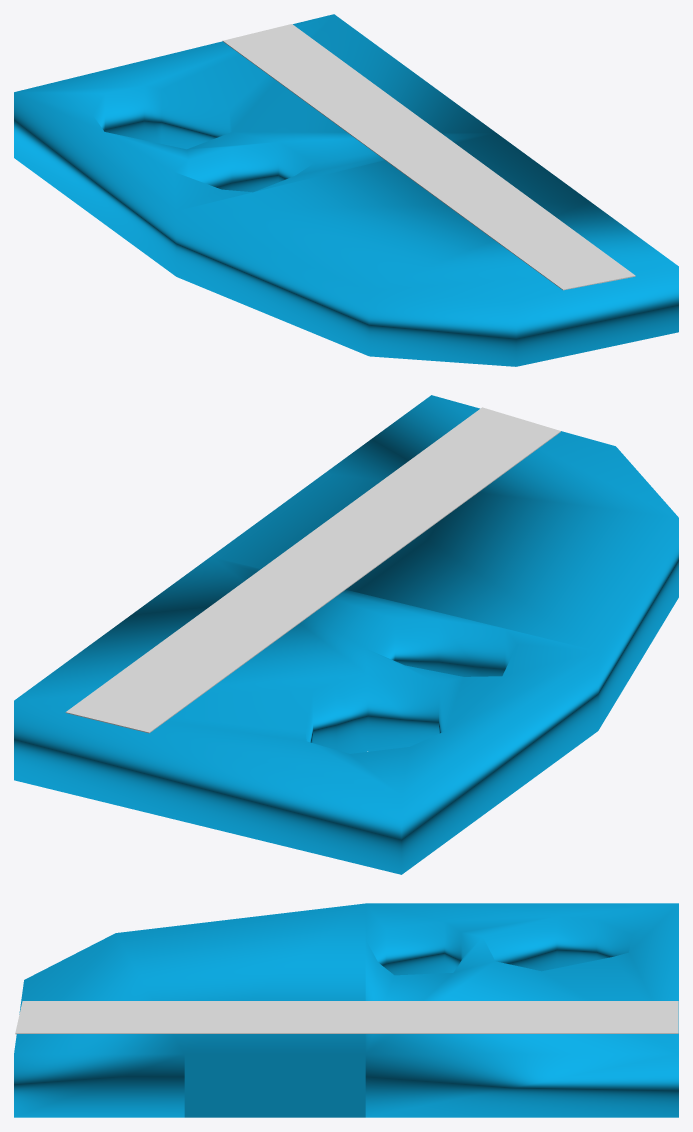
File: KEYCARD.fbx
The picture shows the model from 3 angles, top to bottom: view 1: azimuth 30°, elevation 25°; view 2: azimuth 150°, elevation 25°; view 3: azimuth 270°, elevation 25°; orthographic projection. The views are drawn at different scales.
Visible parts, largest first — view 1: Cube, Cube.001; view 2: Cube, Cube.001; view 3: Cube, Cube.001.
Part boxes in pixels (bbox=[...]): Cube: bbox=[14, 14, 678, 366]; Cube.001: bbox=[223, 24, 635, 290]; Cube: bbox=[14, 395, 678, 874]; Cube.001: bbox=[65, 407, 560, 733]; Cube: bbox=[14, 903, 678, 1117]; Cube.001: bbox=[15, 1001, 678, 1034].
Size of the model in its own units: 84.91 by 16.86 by 158.
